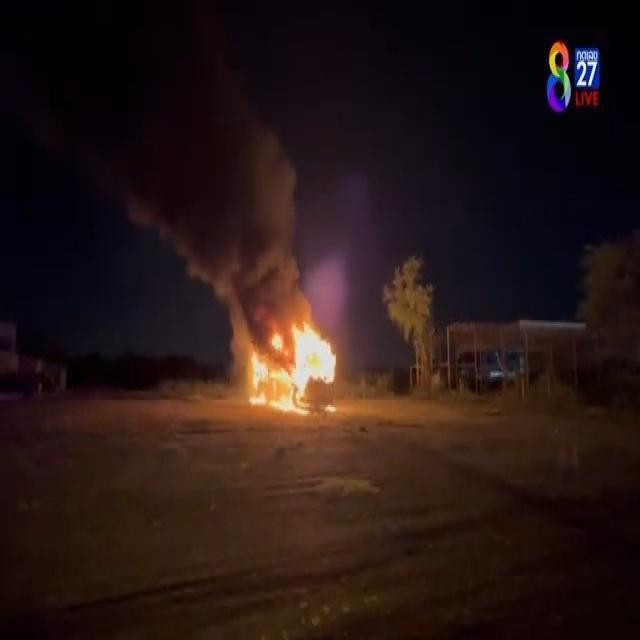Fire: (242, 324, 336, 410)
Smoke: (140, 113, 312, 324)
